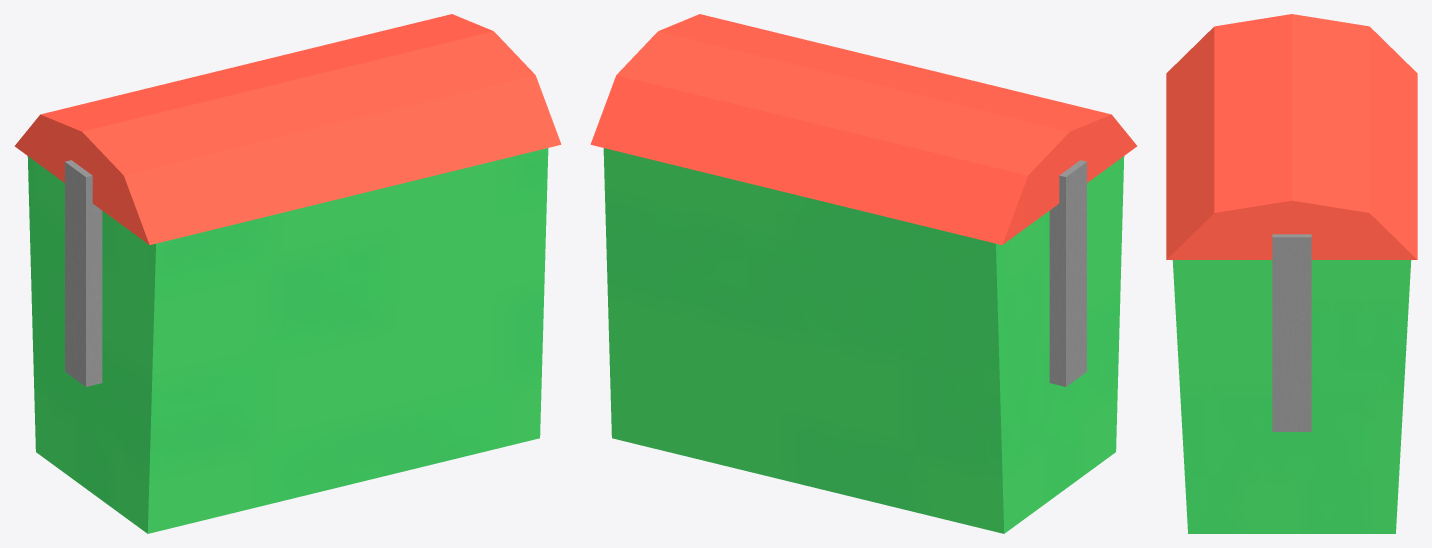
The model's file is trashbox.glb.
3 renders of one model, left to right at view 1: azimuth 30°, elevation 25°; view 2: azimuth 150°, elevation 25°; view 3: azimuth 270°, elevation 25°, orthographic. The views are drawn at different scales.
Visible parts, largest first — view 1: trashbox(Clone); view 2: trashbox(Clone); view 3: trashbox(Clone).
Boxes of the visible parts, x1=… form: trashbox(Clone): x1=14, y1=14, x2=561, y2=533; trashbox(Clone): x1=590, y1=14, x2=1137, y2=533; trashbox(Clone): x1=1166, y1=14, x2=1417, y2=533.
Bounding box in the file's own units: 1.51 × 1.23 × 0.8313.
Materials: 1 (1 with a texture image).
